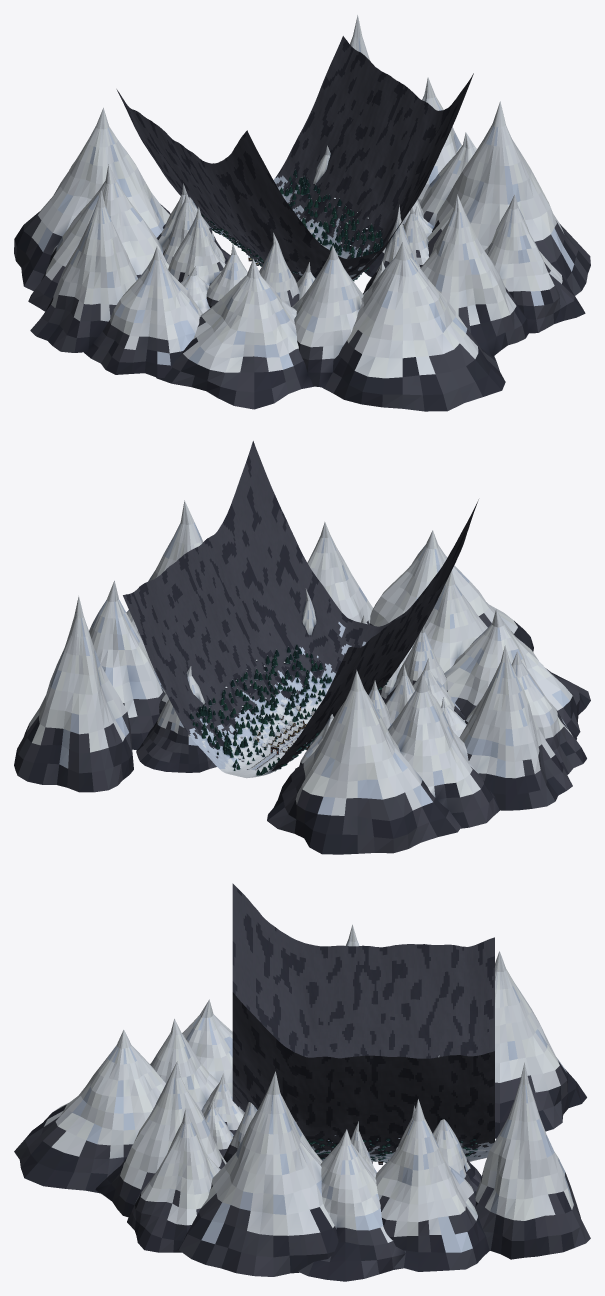
File: village.glb
The picture shows the model from 3 angles, top to bottom: view 1: azimuth 30°, elevation 25°; view 2: azimuth 150°, elevation 25°; view 3: azimuth 270°, elevation 25°; orthographic projection.
Parts seen in each view (by area): view 1: Mountains, Terrain, Forest; view 2: Mountains, Terrain, Forest; view 3: Mountains, Terrain.
Boxes of the visible parts, bbox=[...] form: Mountains: bbox=[14, 15, 590, 411]; Terrain: bbox=[116, 36, 473, 282]; Forest: bbox=[201, 169, 383, 281]; Mountains: bbox=[14, 500, 590, 854]; Terrain: bbox=[123, 441, 478, 778]; Forest: bbox=[189, 644, 388, 775]; Mountains: bbox=[14, 924, 590, 1281]; Terrain: bbox=[232, 883, 494, 1162].
Bounding box in the file's own units: 929 × 401 × 923.
